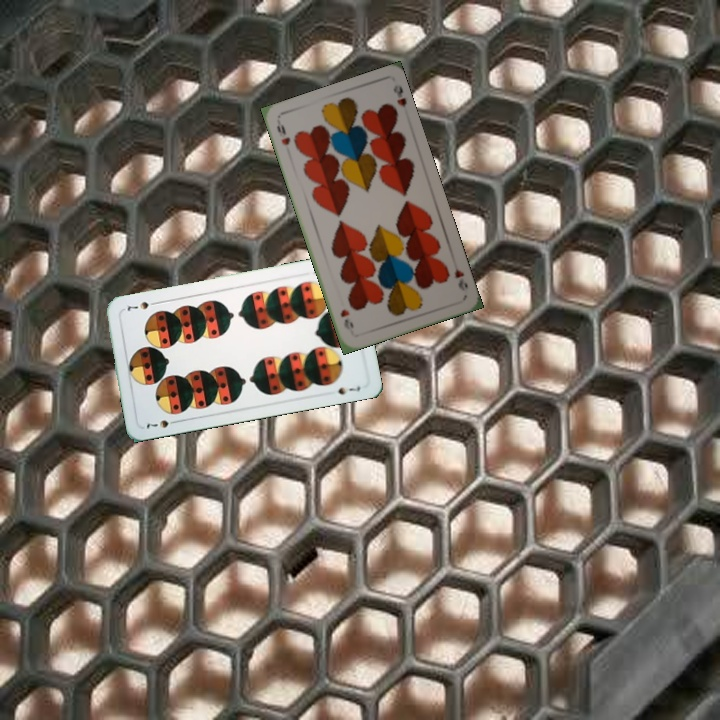H9: (449, 257, 470, 293), (273, 117, 293, 148)
S7: (141, 416, 181, 432)
